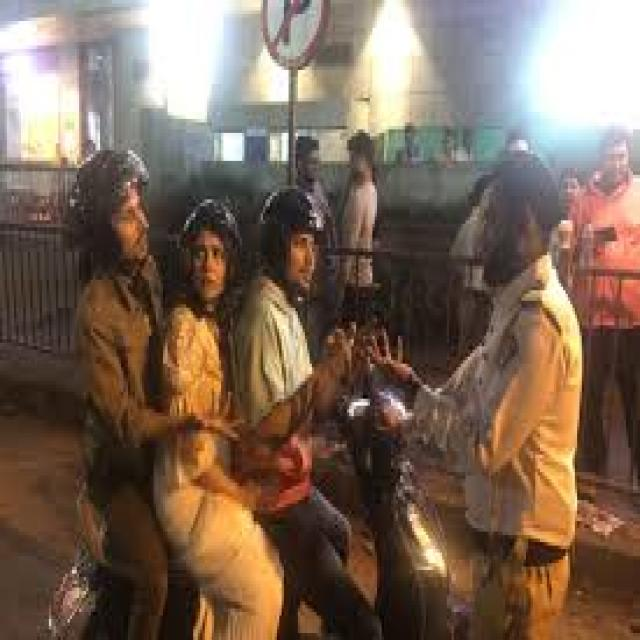Triple_riding: (56, 150, 393, 640)
with_helmet: (60, 140, 154, 290), (249, 185, 338, 321), (166, 192, 242, 335)
